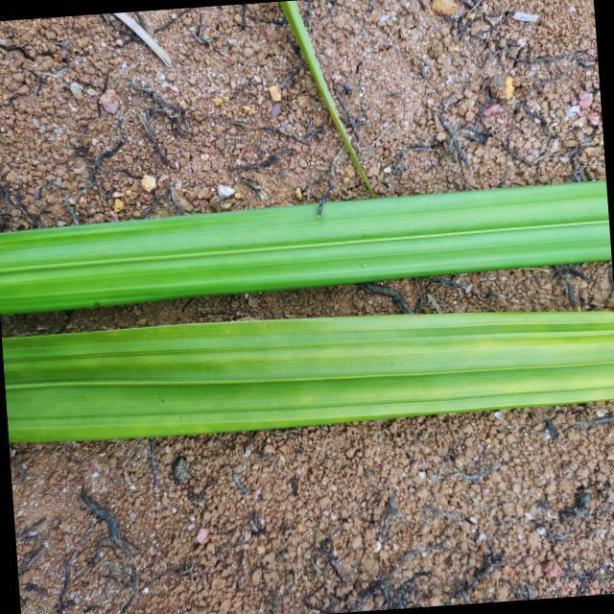nitrogen: (0, 179, 614, 315), (7, 317, 614, 444)
